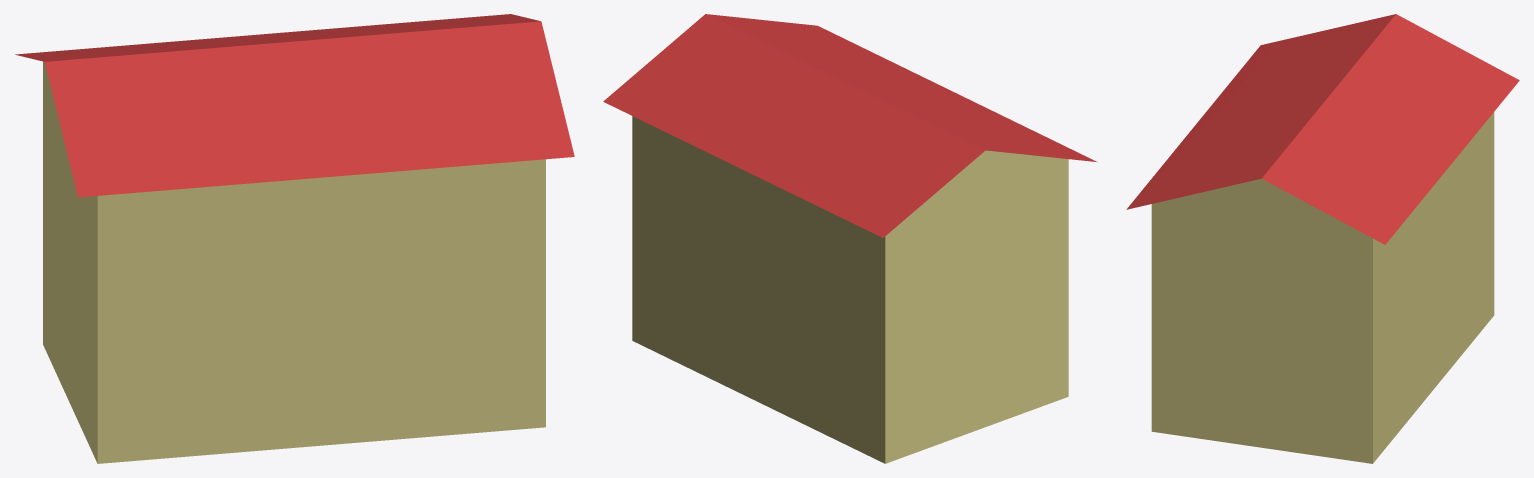
The picture shows the model from 3 angles, left to right: view 1: azimuth 30°, elevation 25°; view 2: azimuth 150°, elevation 25°; view 3: azimuth 270°, elevation 25°; orthographic projection. The views are drawn at different scales.
Parts seen in each view (by area): view 1: group_5, group_3, group_4; view 2: group_5, group_3, group_4; view 3: group_5, group_3, group_4.
Part boxes in pixels (x1,y1,x2,y2): group_5: (43,61,545,463); group_3: (23,14,545,192); group_4: (15,21,574,197); group_5: (632,105,1068,463); group_3: (603,14,1067,237); group_4: (697,14,1097,237); group_5: (1151,112,1494,463); group_3: (1152,14,1518,244); group_4: (1126,14,1519,209).
Bounding box in the file's own units: 17.85 × 14.67 × 11.43.
